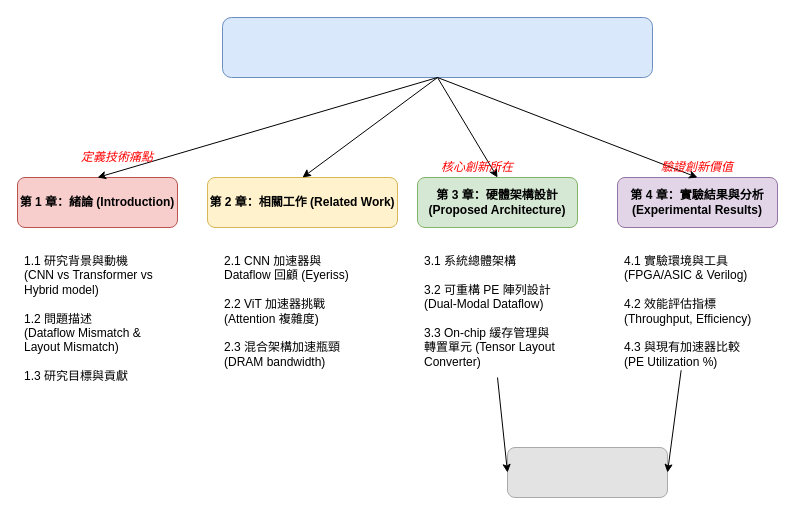
The diagram is 795 pixels wide and 515 high, and some of its shapes have lost their labels. The box of each missing label's shape, as (x1, y1, x2, y2) in pixels:
MobileViT 混合架構硬體加速器之設計與實作 (論文總題): (222, 16, 652, 78)
第 5 章：結論與展望: (506, 446, 668, 498)
